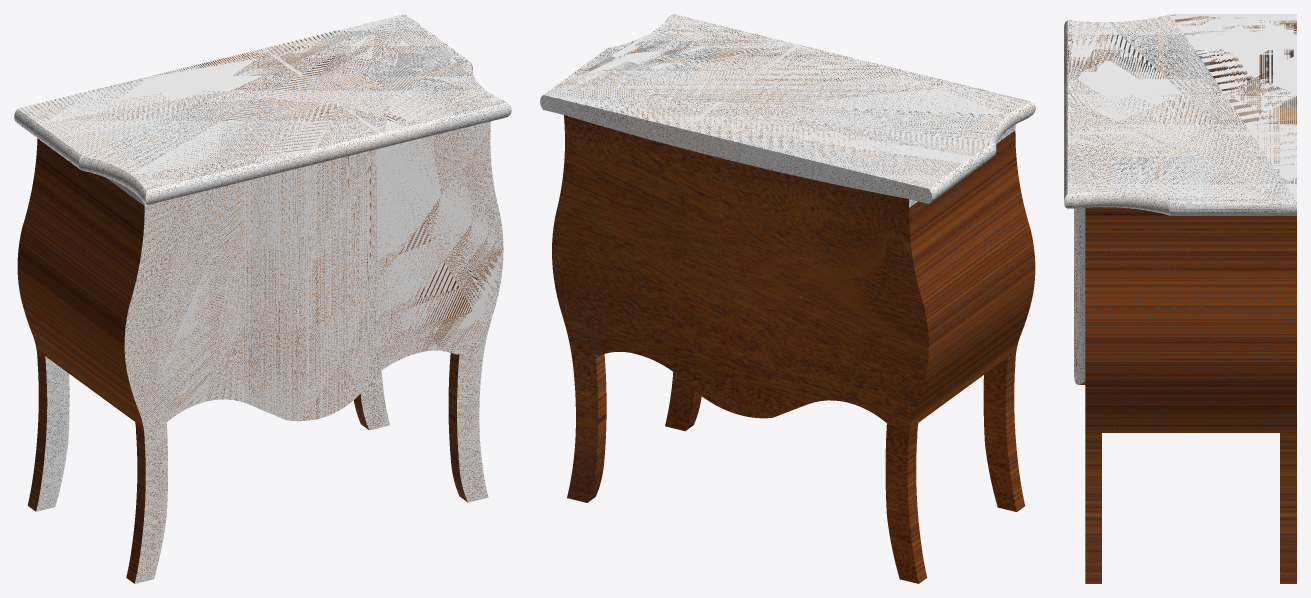
3 views of the same model, side by side, from view 1: azimuth 30°, elevation 25°; view 2: azimuth 150°, elevation 25°; view 3: azimuth 270°, elevation 25° (orthographic).
Visible parts, largest first — view 1: mesh1_mesh1-geometry; view 2: mesh1_mesh1-geometry; view 3: mesh1_mesh1-geometry.
Part boxes in pixels (x1,y1,x2,y2): mesh1_mesh1-geometry: (14, 14, 511, 583); mesh1_mesh1-geometry: (540, 14, 1035, 583); mesh1_mesh1-geometry: (1064, 14, 1296, 583).
Bounding box in the file's own units: 0.6733 × 0.6521 × 0.3485.
